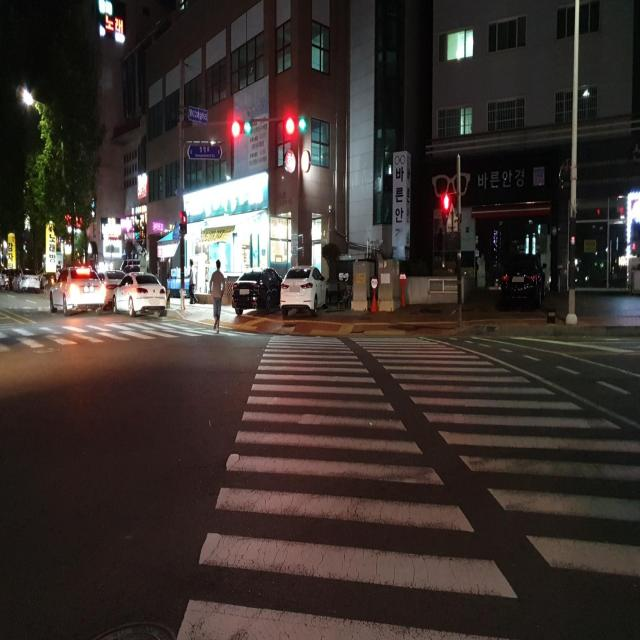빨간불: (439, 195, 450, 233)
횡단보도: (172, 333, 640, 640), (0, 318, 204, 366)
